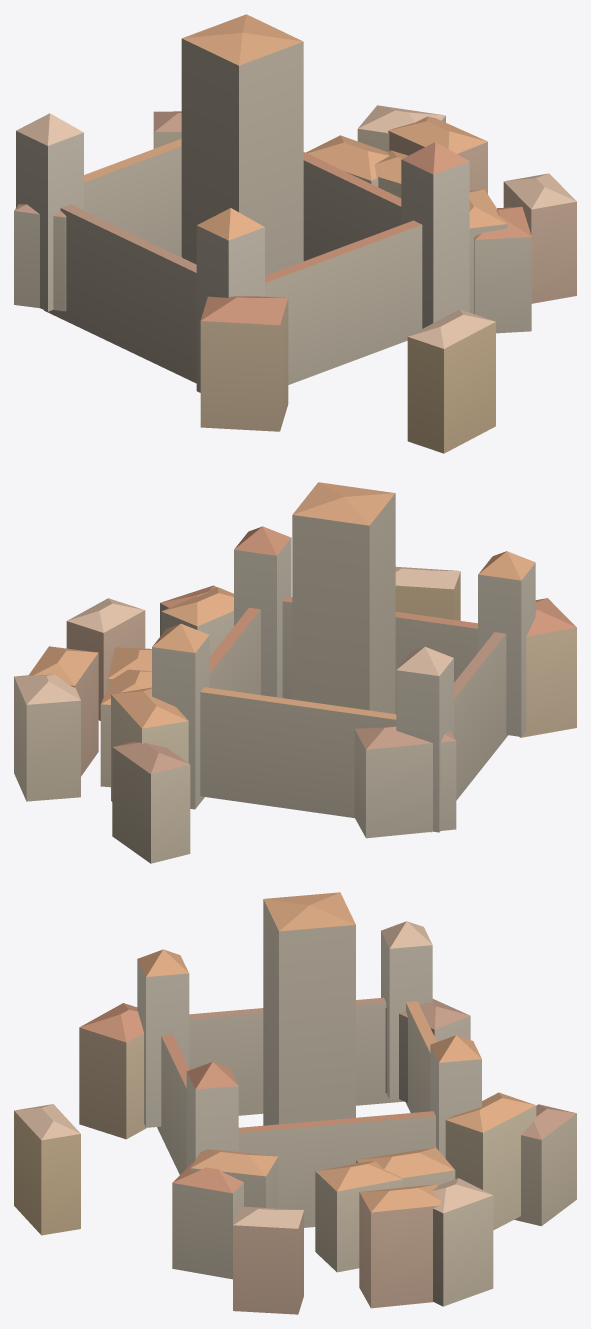
File: SM_BM_BVV_Village_5.glb
3 renders of one model, top to bottom at view 1: azimuth 30°, elevation 25°; view 2: azimuth 150°, elevation 25°; view 3: azimuth 270°, elevation 25°, orthographic. The views are drawn at different scales.
Parts seen in each view (by area): view 1: SM_BM_BVV_Village_5; view 2: SM_BM_BVV_Village_5; view 3: SM_BM_BVV_Village_5.
Boxes of the visible parts, x1=… form: SM_BM_BVV_Village_5: x1=14, y1=14, x2=576, y2=453; SM_BM_BVV_Village_5: x1=14, y1=482, x2=576, y2=863; SM_BM_BVV_Village_5: x1=14, y1=892, x2=576, y2=1314.
Size of the model in its own units: 108 by 67.62 by 122.
